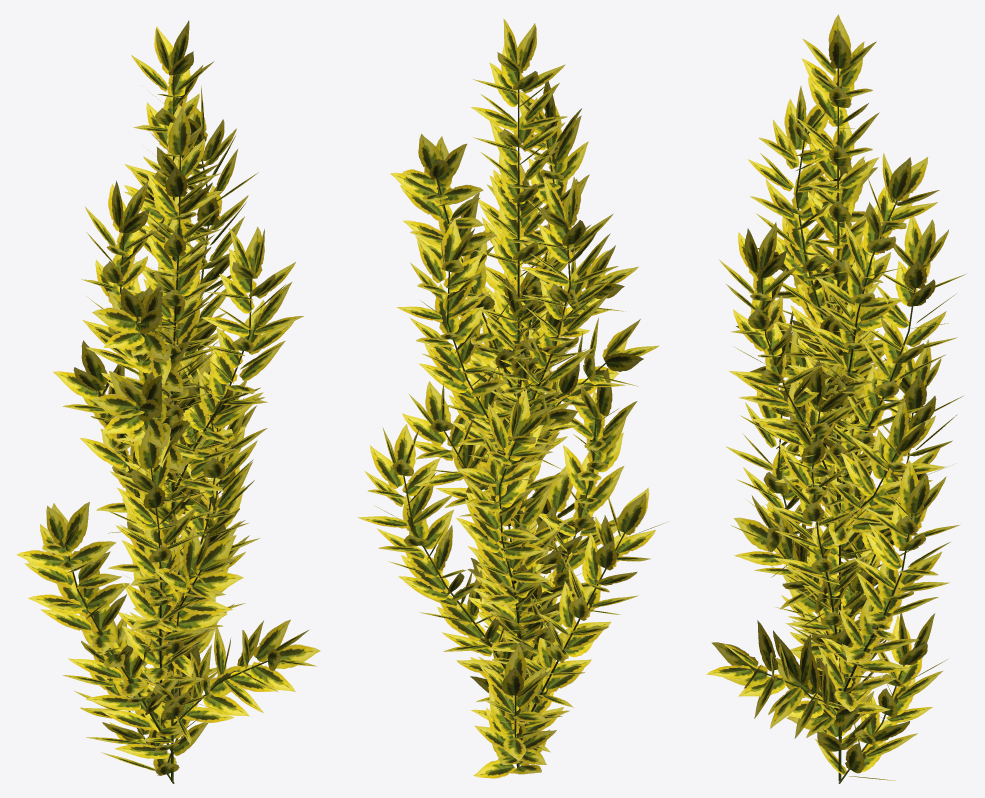
Rendered from huirimasaki_nocolor.fbx.
3 views of the same model, side by side, from view 1: azimuth 30°, elevation 25°; view 2: azimuth 150°, elevation 25°; view 3: azimuth 270°, elevation 25° (orthographic).
Visible parts, largest first — view 1: 903.014, 903.004, 903.012, 903.005, 903.008, 903.018, 903.001, 903.019, 903.002, 903.009, 903.016, 903.007 (+5 smaller); view 2: 903.008, 903.013, 903.015, 903.003, 903.014, 903.001, 903.002, 903.012, 903.010, 903.017, 903.005, 903.006 (+5 smaller); view 3: 903.008, 903.015, 903.002, 903.005, 903.003, 903.004, 903.016, 903.018, 903.006, 903.017, 903.010, 903.019 (+6 smaller).
Boxes of the visible parts, left/top/right/bottom form: 903.014: left=16, top=502, right=208, bottom=759; 903.004: left=161, top=226, right=303, bottom=502; 903.012: left=110, top=424, right=204, bottom=689; 903.005: left=137, top=103, right=221, bottom=400; 903.008: left=122, top=20, right=222, bottom=520; 903.018: left=172, top=619, right=320, bottom=744; 903.001: left=81, top=180, right=209, bottom=472; 903.019: left=133, top=526, right=243, bottom=677; 903.002: left=135, top=86, right=258, bottom=419; 903.009: left=92, top=286, right=209, bottom=401; 903.016: left=137, top=350, right=267, bottom=653; 903.007: left=91, top=371, right=210, bottom=480; 903.008: left=470, top=18, right=567, bottom=516; 903.013: left=456, top=389, right=559, bottom=651; 903.015: left=357, top=424, right=539, bottom=701; 903.003: left=396, top=219, right=549, bottom=494; 903.014: left=504, top=487, right=668, bottom=752; 903.001: left=482, top=177, right=618, bottom=456; 903.002: left=390, top=134, right=553, bottom=412; 903.012: left=500, top=368, right=637, bottom=676; 903.010: left=471, top=266, right=569, bottom=766; 903.017: left=473, top=644, right=556, bottom=778; 903.005: left=483, top=81, right=591, bottom=389; 903.006: left=402, top=381, right=534, bottom=518; 903.008: left=796, top=14, right=879, bottom=505; 903.015: left=815, top=459, right=960, bottom=714; 903.002: left=801, top=153, right=939, bottom=430; 903.005: left=747, top=85, right=879, bottom=393; 903.003: left=820, top=217, right=965, bottom=500; 903.004: left=719, top=222, right=850, bottom=506; 903.016: left=765, top=358, right=870, bottom=653; 903.018: left=706, top=620, right=859, bottom=738; 903.006: left=825, top=401, right=945, bottom=545; 903.017: left=814, top=613, right=947, bottom=783; 903.010: left=786, top=278, right=887, bottom=781; 903.019: left=731, top=495, right=859, bottom=660.
Bounding box in the file's own units: 49.31 × 131 × 42.05.
Materials: 1 (1 with a texture image).
